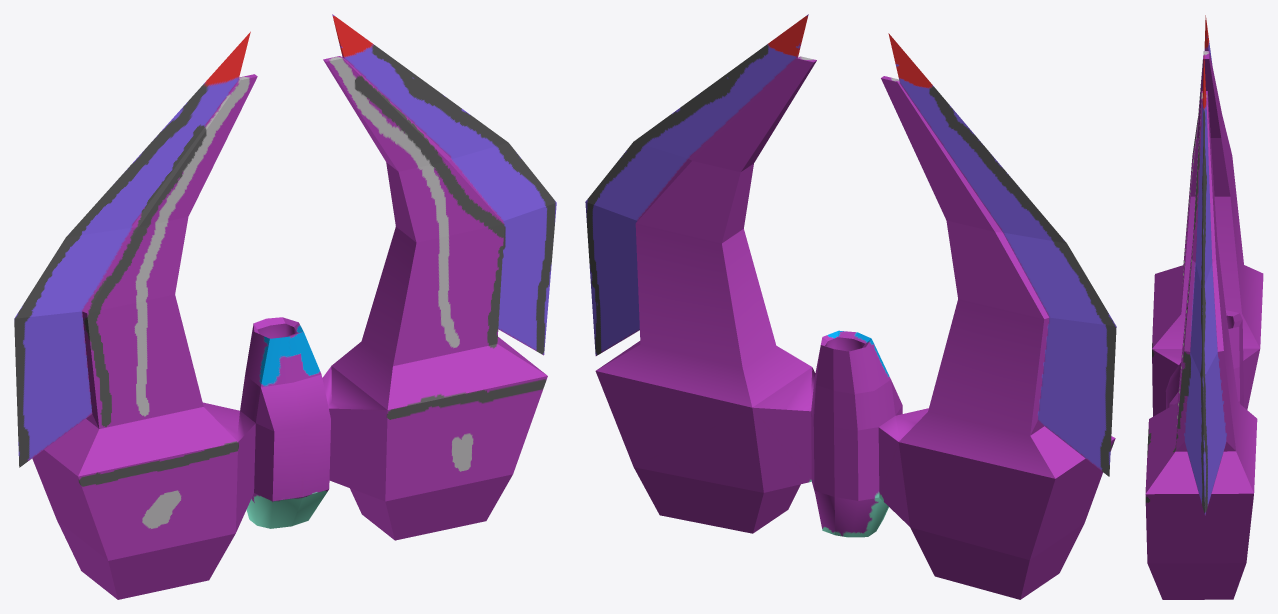
Rendered from IceBlades.fbx.
3 renders of one model, left to right at view 1: azimuth 30°, elevation 25°; view 2: azimuth 150°, elevation 25°; view 3: azimuth 270°, elevation 25°, orthographic. The views are drawn at different scales.
Visible parts, largest first — view 1: node_id4 (×2); view 2: node_id4 (×2); view 3: node_id4 (×2).
Part boxes in pixels (x1,y1,x2,y2): node_id4 (×2): (14,14,556,599); node_id4 (×2): (585,14,1116,599); node_id4 (×2): (1145,15,1263,599).
Bounding box in the file's own units: 0.5041 × 0.4709 × 0.1029.
2 materials, 2 textured.
